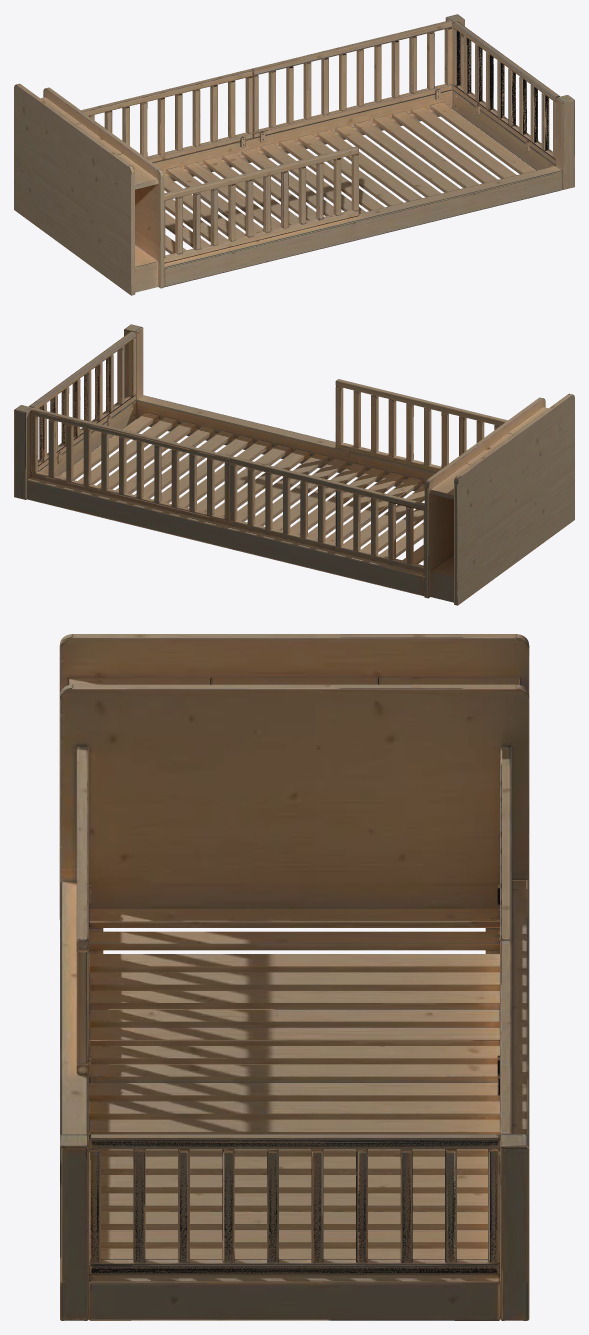
3 renders of one model, top to bottom at view 1: azimuth 30°, elevation 25°; view 2: azimuth 150°, elevation 25°; view 3: azimuth 270°, elevation 25°, orthographic. The views are drawn at different scales.
Parts seen in each view (by area): view 1: 190x80; view 2: 190x80; view 3: 190x80.
Part boxes in pixels (x1,y1,x2,y2): 190x80: [14, 14, 574, 295]; 190x80: [14, 324, 574, 605]; 190x80: [59, 634, 529, 1320].
Size of the model in its own units: 2.12 by 0.58 by 0.97.
Materials: 1 (1 with a texture image).
